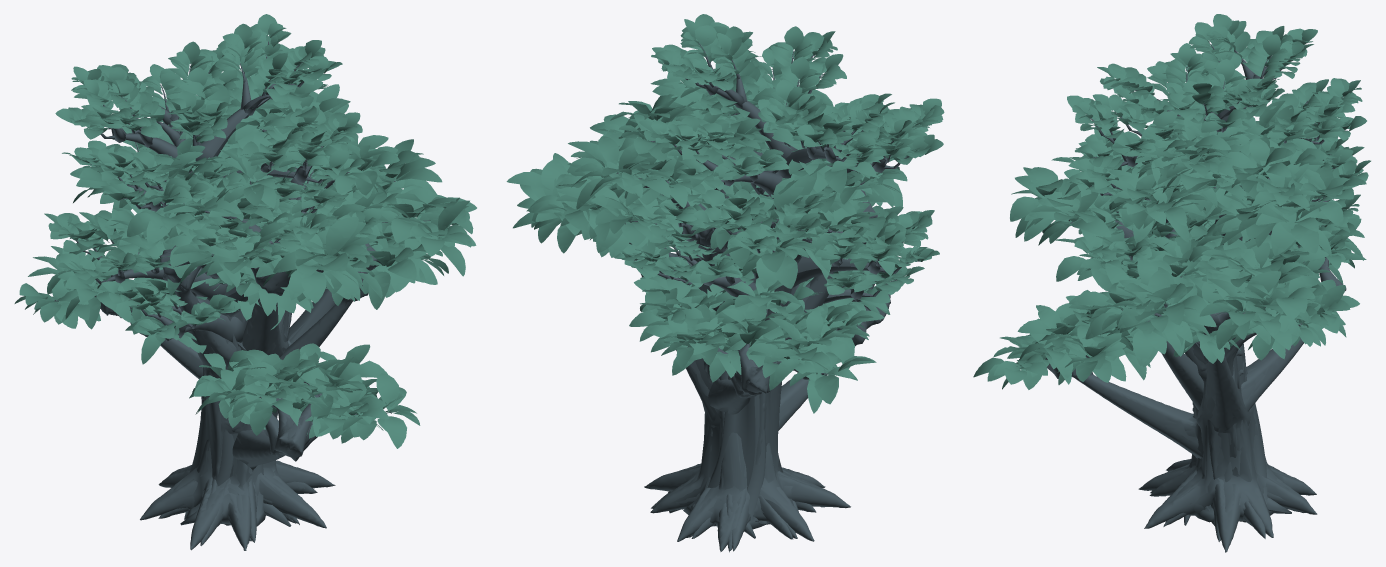
Rendered from vesper-connected-forest-v1.glb.
3 renders of one model, left to right at view 1: azimuth 30°, elevation 25°; view 2: azimuth 150°, elevation 25°; view 3: azimuth 270°, elevation 25°, orthographic. The views are drawn at different scales.
Visible parts, largest first — view 1: pilot_connected_elder_leaves, mature_grove_high_leaves, connected_tree_2_leaves, connected_tree_1_leaves, mature_grove_high_wood, pilot_connected_elder_wood, connected_tree_0_leaves, connected_tree_mid_2_leaves, mature_grove_low_leaves, connected_tree_mid_1_leaves, connected_tree_0_wood, connected_tree_2_wood (+8 smaller); view 2: pilot_connected_elder_leaves, mature_grove_high_leaves, connected_tree_2_leaves, pilot_connected_elder_wood, connected_tree_1_leaves, mature_grove_high_wood, connected_tree_mid_2_leaves, mature_grove_low_leaves, connected_tree_0_leaves, connected_tree_mid_1_leaves, mature_grove_low_wood, connected_tree_2_wood (+6 smaller); view 3: pilot_connected_elder_leaves, mature_grove_high_leaves, connected_tree_1_leaves, connected_tree_2_leaves, mature_grove_high_wood, mature_grove_low_leaves, connected_tree_mid_1_leaves, connected_tree_2_wood, connected_tree_0_leaves, connected_tree_mid_2_leaves, mature_grove_low_wood, pilot_connected_elder_wood (+7 smaller).
Part boxes in pixels (x1,y1,x2,y2): pilot_connected_elder_leaves: (44,14,381,340); mature_grove_high_leaves: (70,56,476,309); connected_tree_2_leaves: (15,234,420,448); connected_tree_1_leaves: (132,66,399,226); mature_grove_high_wood: (140,181,429,550); pilot_connected_elder_wood: (76,41,328,526); connected_tree_0_leaves: (69,185,398,315); connected_tree_mid_2_leaves: (15,247,419,445); mature_grove_low_leaves: (72,107,472,304); connected_tree_mid_1_leaves: (131,70,397,224); connected_tree_0_wood: (107,241,381,541); connected_tree_2_wood: (46,295,391,543); pilot_connected_elder_leaves: (614,14,944,294); mature_grove_high_leaves: (506,89,894,288); connected_tree_2_leaves: (629,249,890,413); pilot_connected_elder_wood: (634,43,920,538); connected_tree_1_leaves: (590,61,876,197); mature_grove_high_wood: (616,172,850,551); connected_tree_mid_2_leaves: (632,259,888,409); mature_grove_low_leaves: (511,94,886,286); connected_tree_0_leaves: (576,144,907,279); connected_tree_mid_1_leaves: (591,69,874,195); mature_grove_low_wood: (629,194,824,542); connected_tree_2_wood: (667,252,890,551); pilot_connected_elder_leaves: (1064,14,1370,333); mature_grove_high_leaves: (1010,164,1366,367); connected_tree_1_leaves: (1107,100,1328,242); connected_tree_2_leaves: (973,214,1366,389); mature_grove_high_wood: (1068,197,1325,552); mature_grove_low_leaves: (1010,129,1363,363); connected_tree_mid_1_leaves: (1105,101,1325,240); connected_tree_2_wood: (1016,257,1346,537); connected_tree_0_leaves: (1051,141,1245,363); connected_tree_mid_2_leaves: (974,214,1362,386); mature_grove_low_wood: (1069,220,1305,547); pilot_connected_elder_wood: (1086,42,1347,525).
Bounding box in the file's own units: 241 × 272 × 220.
